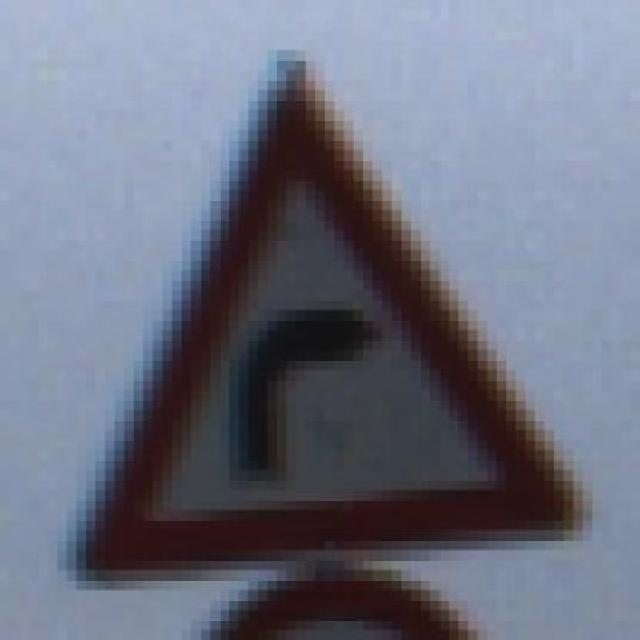Dangerous Rright Curve Ahead: (48, 50, 602, 590)
